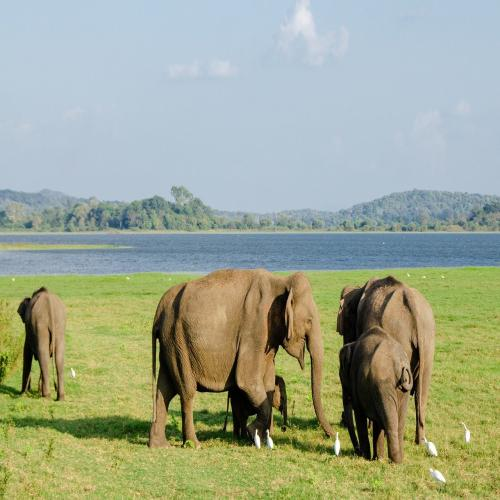asian_elephant-endangered: (150, 267, 336, 447), (337, 277, 437, 441), (339, 331, 416, 461), (17, 288, 70, 401), (222, 366, 288, 433)
